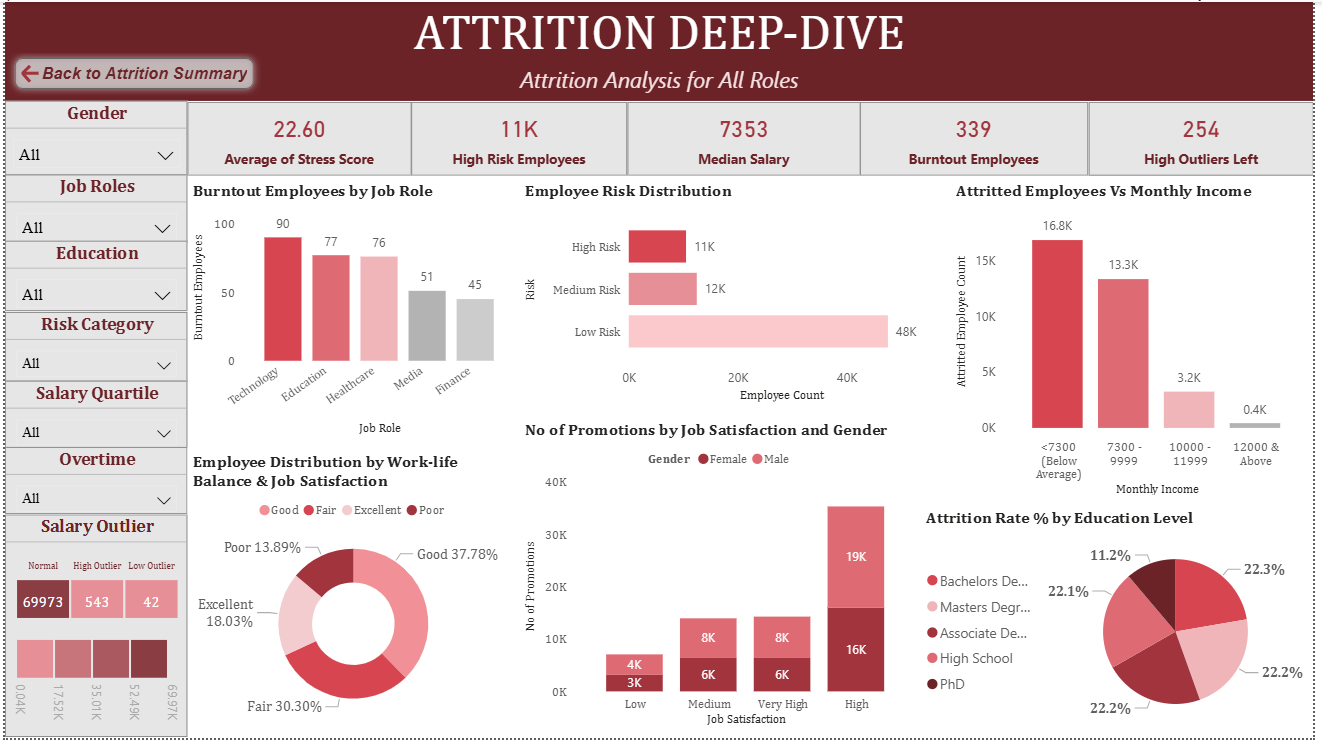

The page's visual inventory and layout, read from the dashboard file:
{"tool":"powerbi","page":{"name":"Attrition Deep Dive","canvas":[1280,720],"ordinal":1},"visuals":[{"type":"pieChart","title":"Attrition Rate % by Education Level ","fields":{"Y":["attrition_data2.Attrition Rate %"],"Category":["attrition_data2.Education_Level"]},"box":[896.4,494.5,383.6,225.7],"z":0},{"type":"columnChart","fields":{"Category":["attrition_data2.Job_Satisfaction"],"Y":["CountNonNull(attrition_data2.No_of_Promotions)"],"Series":["attrition_data2.Gender"]},"box":[503.6,403.2,392.7,317.1],"z":1000},{"type":"card","fields":{"Values":["Avg(attrition_data2.Stress Score)"]},"box":[178.8,97.9,219.2,71.8],"z":2000},{"type":"card","fields":{"Values":["attrition_data2.High Risk Employees"]},"box":[397.6,97.8,211.2,71.7],"z":3000},{"type":"card","fields":{"Values":["Median(attrition_data2.Monthly_Income)"]},"box":[608.7,97.8,228.1,71.7],"z":4000},{"type":"card","fields":{"Values":["attrition_data2.Burntout Employees"]},"box":[836.8,97.8,222.9,71.7],"z":5000},{"type":"textbox","title":"ATTRITION DEEP-DIVE","box":[0,0,1280.3,96.6],"z":6000},{"type":"clusteredColumnChart","title":"Burntout Employees by Job Role","fields":{"Y":["attrition_data2.Burntout Employees"],"Category":["attrition_data2.Job_Role"]},"box":[178.8,169.6,324.9,266.2],"z":7000},{"type":"slicer","title":"Gender","fields":{"Values":["attrition_data2.Gender"]},"box":[0,96.2,178.8,72.5],"z":8000},{"type":"slicer","title":"Job Roles","fields":{"Values":["attrition_data2.Job_Role"]},"box":[0,168.3,178.8,66.5],"z":11000},{"type":"slicer","title":"Education","fields":{"Values":["attrition_data2.Education_Level"]},"box":[0,233.6,178.8,69.2],"z":12000},{"type":"slicer","title":"Risk Category","fields":{"Values":["attrition_data2.Risk Category"]},"box":[0,302.7,178.8,67.8],"z":13000},{"type":"slicer","title":"Salary Quartile","fields":{"Values":["attrition_data2.Salary Quartile"]},"box":[0,370.6,178.8,65.2],"z":14000},{"type":"slicer","title":"Overtime","fields":{"Values":["attrition_data2.Overtime"]},"box":[0,435.8,178.8,65.2],"z":15000},{"type":"clusteredBarChart","title":"Employee Risk Distribution","fields":{"Category":["attrition_data2.Risk Category"],"Y":["CountNonNull(attrition_data2.Employee_ID)"]},"box":[503.6,169.6,421.4,233.6],"z":16000},{"type":"donutChart","title":"Employee Distribution by Work-life Balance & Job Satisfaction","fields":{"Category":["attrition_data2.Work_Life_Balance","attrition_data2.Job_Satisfaction"],"Y":["CountNonNull(attrition_data2.Employee_ID)"]},"box":[178.8,435.8,324.9,283.1],"z":17000},{"type":"clusteredColumnChart","title":"Attritted Employees Vs Monthly Income","fields":{"Y":["attrition_data2.Employees Left"],"Category":["attrition_data2.Monthly Income 3"]},"box":[925.1,169.6,354.9,324.9],"z":18000},{"type":"card","fields":{"Values":["attrition_data2.High Outliers Left"]},"box":[1059.7,97.8,220.3,71.7],"z":19001},{"type":"TableHeatMap1443716069308","title":"Salary Outlier","fields":{"Category":["attrition_data2.Salary Outlier"],"Y":["attrition_data2.Outlier Distribution"]},"box":[0,501,178.8,217.9],"z":19002},{"type":"actionButton","box":[2.6,48.3,247.9,44.4],"z":19003}]}

Visuals, with their boxes in screenshot pixels (x1, y1, x2, y2), scaled from the page's 1280x720 canvas onto the 1322x745 screenshot:
"Attrition Rate % by Education Level " pieChart: bbox=(926, 512, 1321, 744)
columnChart - attrition_data2.Job_Satisfaction x CountNonNull(attrition_data2.No_of_Promotions): bbox=(520, 417, 926, 744)
card - Avg(attrition_data2.Stress Score): bbox=(185, 101, 411, 176)
card - attrition_data2.High Risk Employees: bbox=(411, 101, 629, 175)
card - Median(attrition_data2.Monthly_Income): bbox=(629, 101, 864, 175)
card - attrition_data2.Burntout Employees: bbox=(864, 101, 1094, 175)
"ATTRITION DEEP-DIVE" textbox: bbox=(0, 0, 1321, 100)
"Burntout Employees by Job Role" clusteredColumnChart: bbox=(185, 175, 520, 451)
"Gender" slicer: bbox=(0, 100, 185, 175)
"Job Roles" slicer: bbox=(0, 174, 185, 243)
"Education" slicer: bbox=(0, 242, 185, 313)
"Risk Category" slicer: bbox=(0, 313, 185, 383)
"Salary Quartile" slicer: bbox=(0, 383, 185, 451)
"Overtime" slicer: bbox=(0, 451, 185, 518)
"Employee Risk Distribution" clusteredBarChart: bbox=(520, 175, 955, 417)
"Employee Distribution by Work-life Balance & Job Satisfaction" donutChart: bbox=(185, 451, 520, 744)
"Attritted Employees Vs Monthly Income" clusteredColumnChart: bbox=(955, 175, 1321, 512)
card - attrition_data2.High Outliers Left: bbox=(1094, 101, 1321, 175)
"Salary Outlier" TableHeatMap1443716069308: bbox=(0, 518, 185, 744)
actionButton: bbox=(3, 50, 259, 96)
